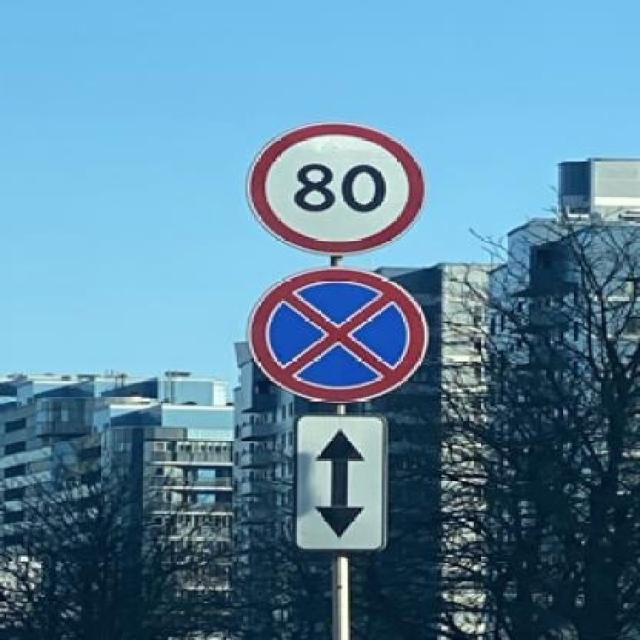forb_speed_over_80: (252, 120, 425, 251)
